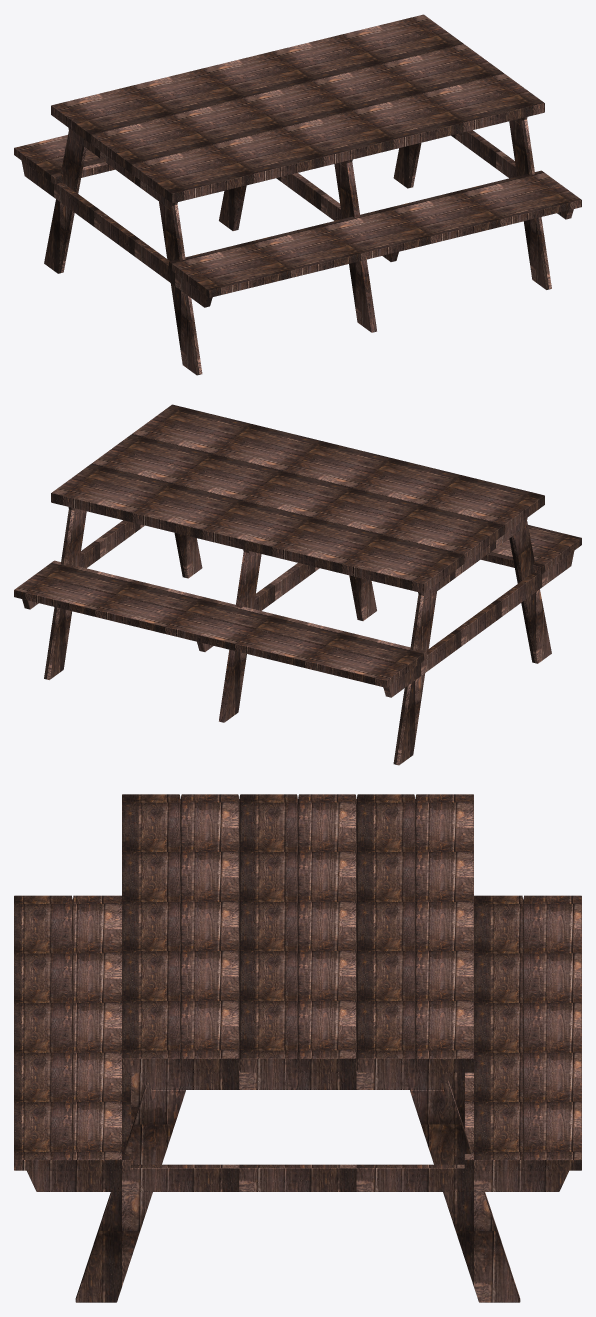
File: bancaComer.obj
3 views of the same model, one above another, from view 1: azimuth 30°, elevation 25°; view 2: azimuth 150°, elevation 25°; view 3: azimuth 270°, elevation 25° (orthographic). The views are drawn at different scales.
Parts seen in each view (by area): view 1: Rectangle073; view 2: Rectangle073; view 3: Rectangle073.
Part boxes in pixels (x1,y1,x2,y2): Rectangle073: [14, 14, 581, 375]; Rectangle073: [14, 404, 581, 765]; Rectangle073: [14, 794, 581, 1302].
Bounding box in the file's own units: 1600 × 706 × 1452.
Materials: 1 (1 with a texture image).
